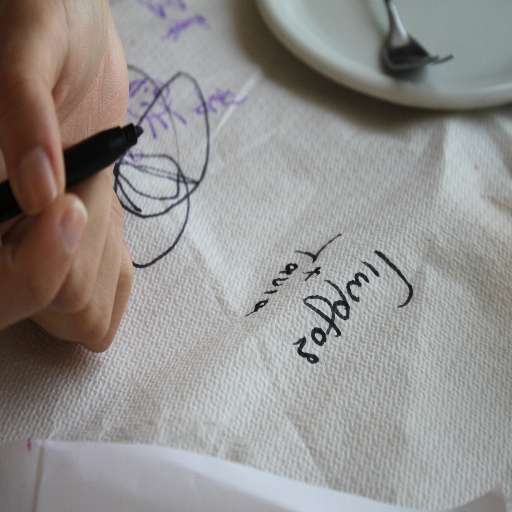hand: (0, 11, 134, 279)
